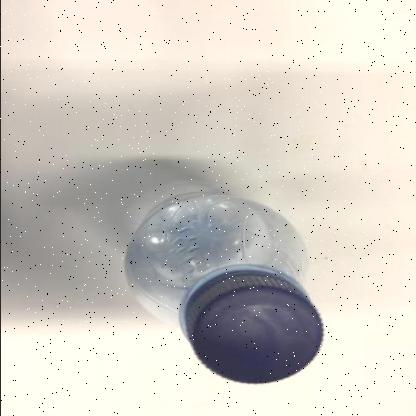Plastic Bottle: (124, 193, 322, 384)
